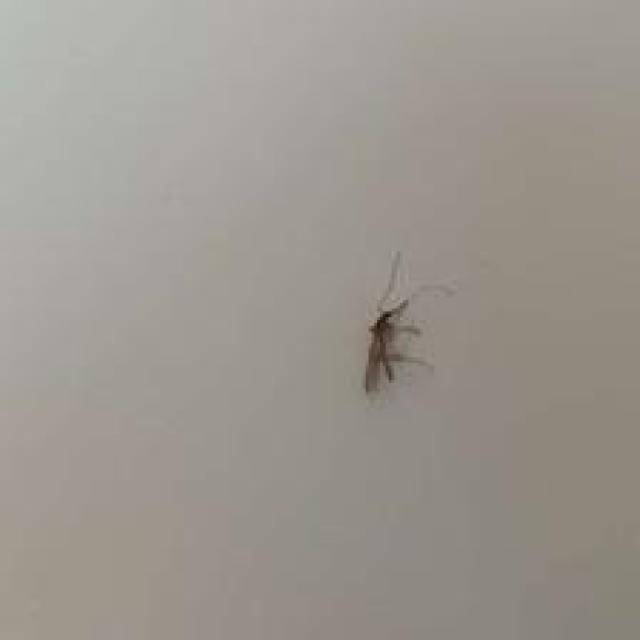Culex: (362, 249, 458, 394)
